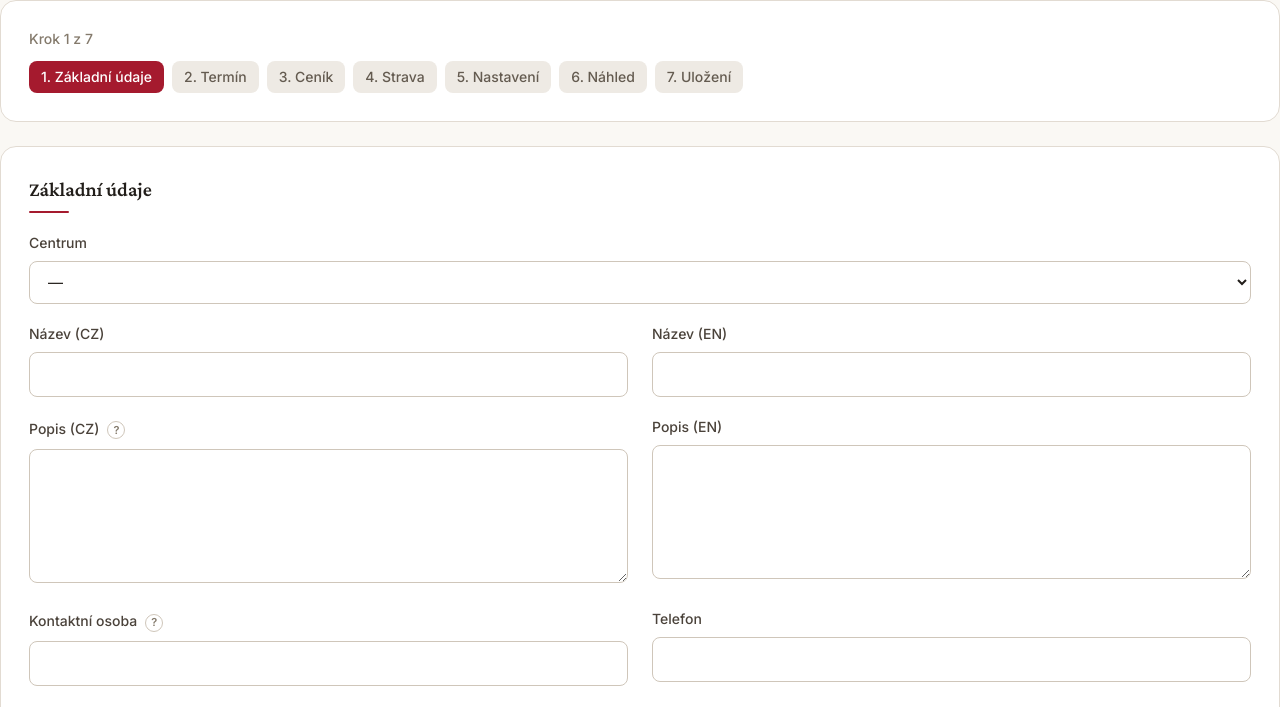
the review step, the last screen before publishing › still shows a dash where nothing was typed
What coordinates should you click on to do the following:
click the button "6. Náhled"
I would click on:
 (603, 77)
Its box is [559,61,647,93].
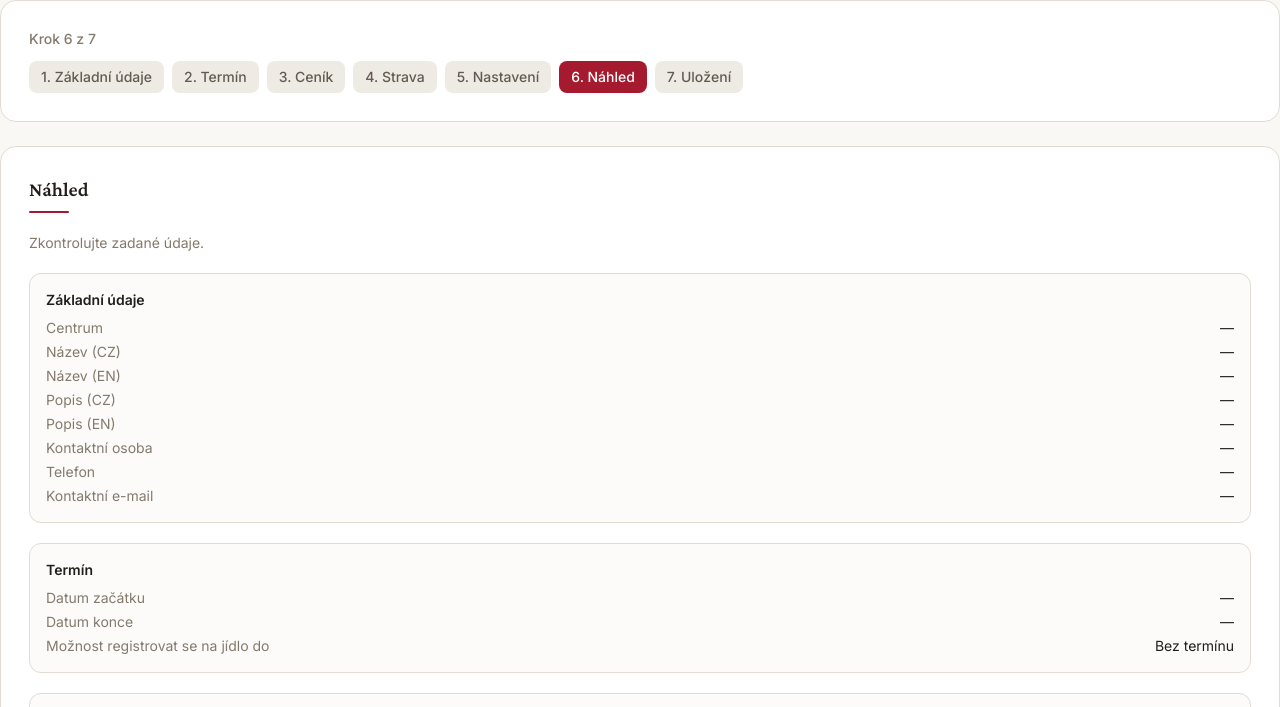
Check: the text "—" in the row of "Popis (EN)" is shown, box [1220,415,1234,432]
